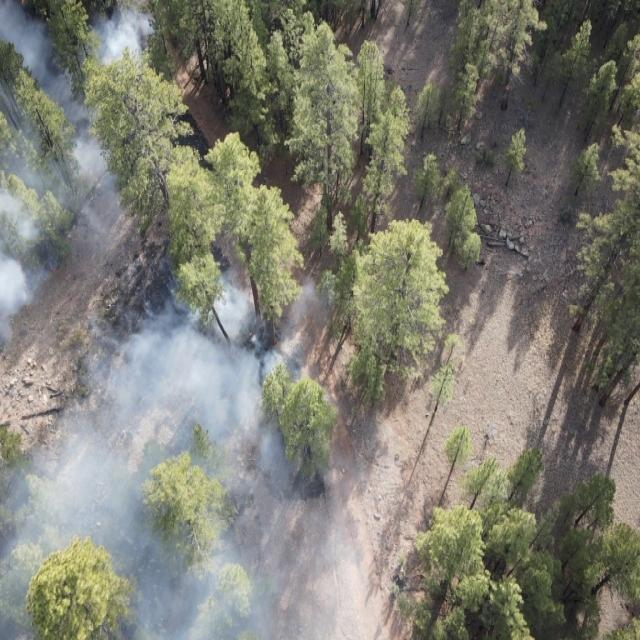fire: (17, 256, 30, 294), (42, 267, 59, 282), (248, 329, 255, 338)
smoke: (0, 247, 379, 640), (0, 0, 163, 356)
